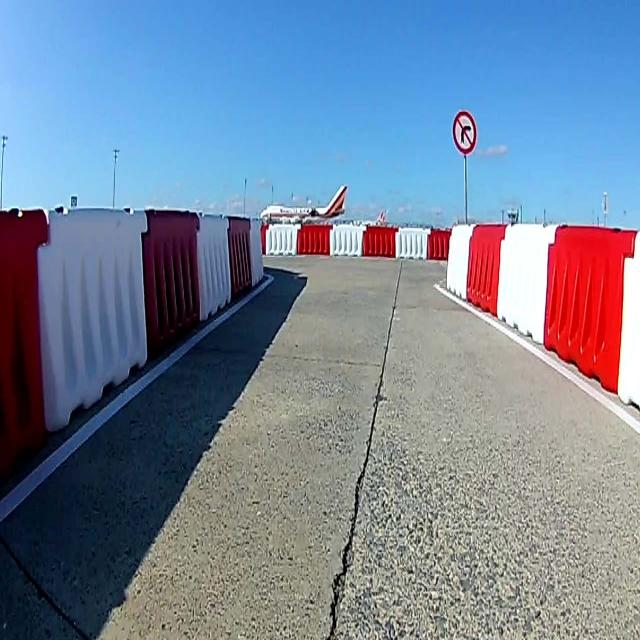sagadonulmez: (453, 113, 477, 154)
